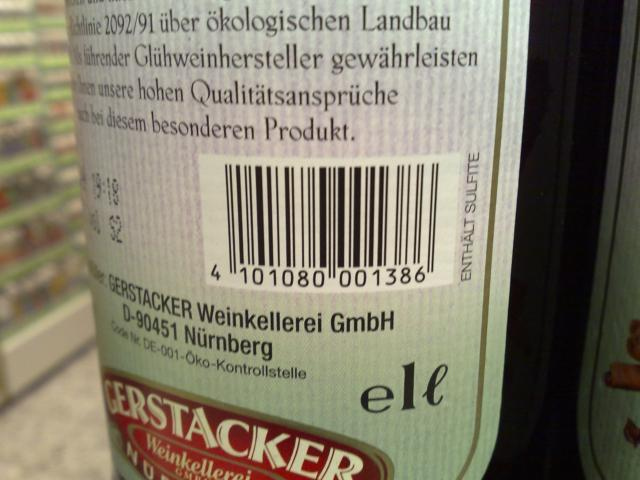Barcode: (204, 157, 446, 292)
